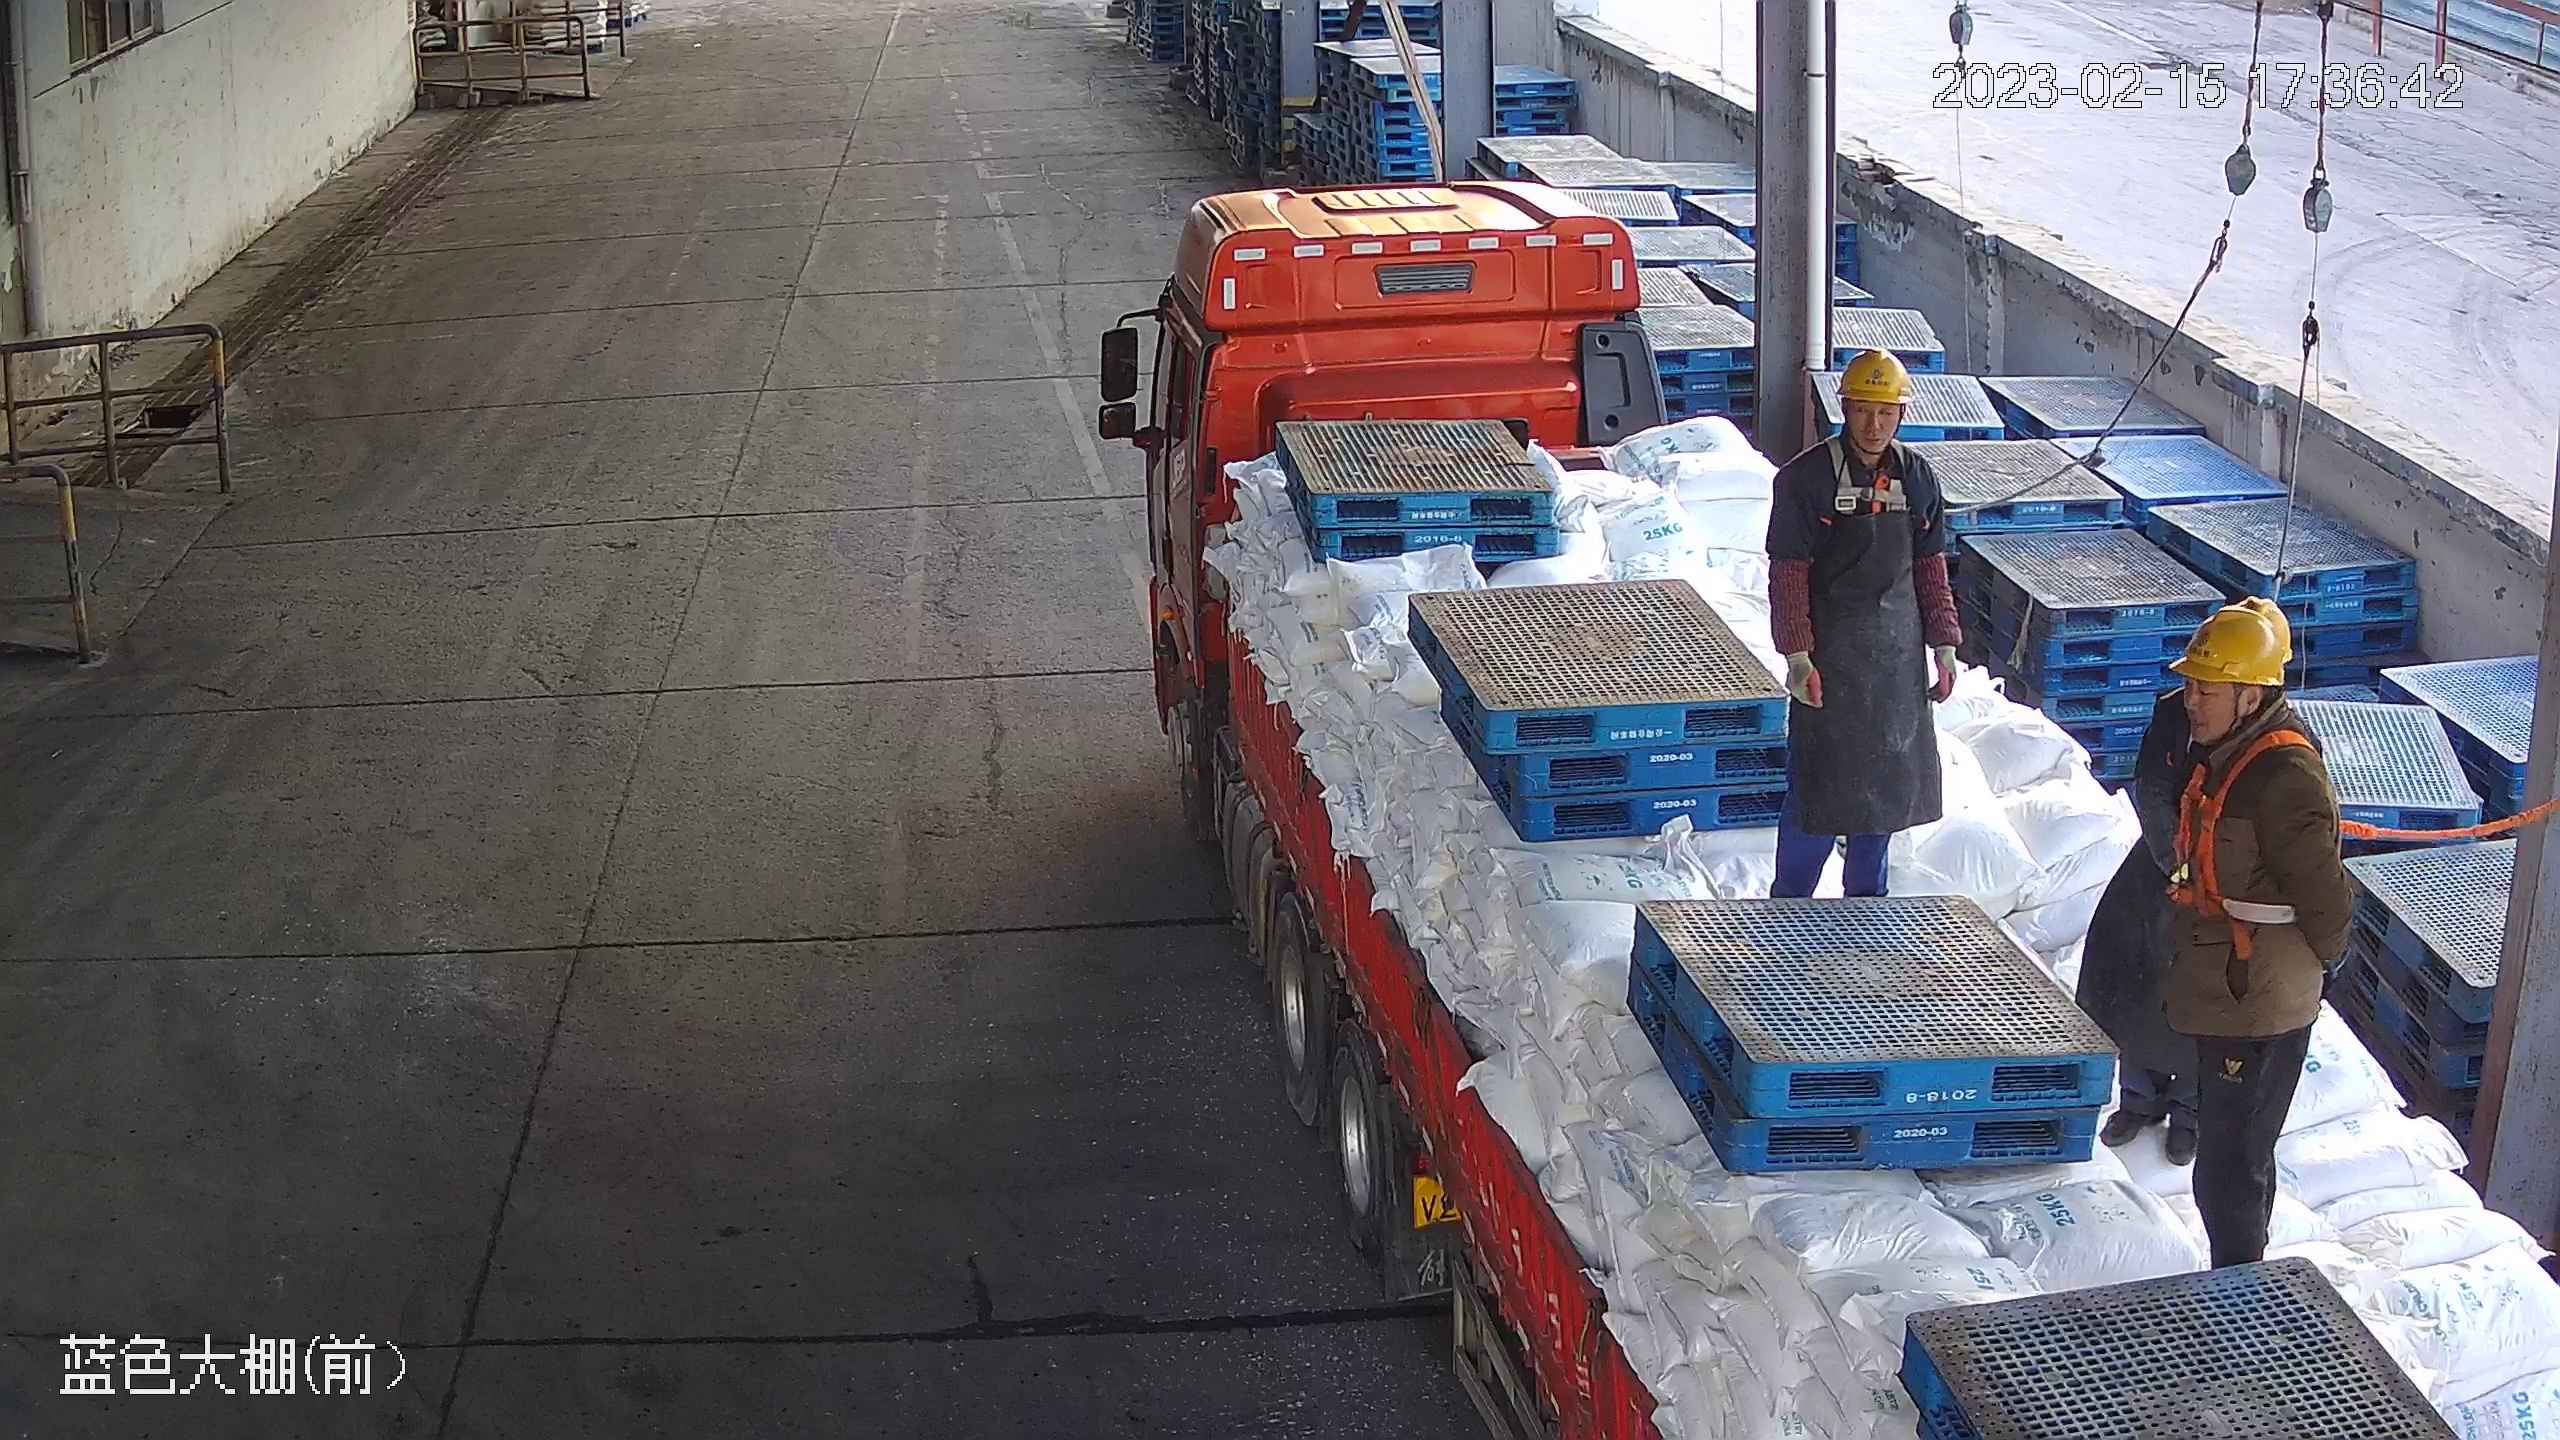belt: (2166, 728, 2374, 960), (1823, 432, 1910, 513)
head: (2161, 608, 2338, 821), (1772, 345, 1941, 528)
helmet: (2161, 608, 2286, 685), (1833, 344, 1914, 404), (2217, 593, 2288, 658)
people: (2160, 607, 2356, 1269), (1767, 345, 1962, 897)
truck: (1097, 180, 2560, 1440)
